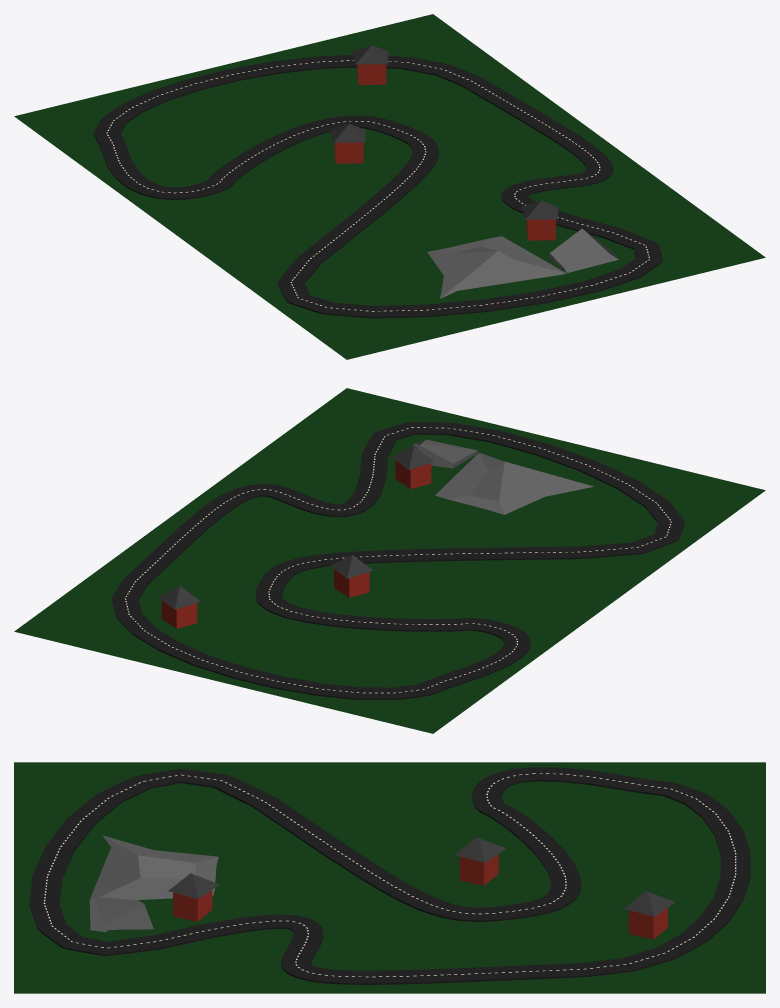
File: world1.0.glb
3 renders of one model, top to bottom at view 1: azimuth 30°, elevation 25°; view 2: azimuth 150°, elevation 25°; view 3: azimuth 270°, elevation 25°, orthographic. The views are drawn at different scales.
Parts seen in each view (by area): view 1: maa, tie, Kallio, tiemerkintä, talo.002, talo, talo.001; view 2: maa, tie, Kallio, tiemerkintä, talo.001, talo.002, talo; view 3: maa, tie, Kallio, talo, talo.001, talo.002, tiemerkintä.
Part boxes in pixels (x1=…): maa: x1=14, y1=14, x2=765, y2=359; tie: x1=93, y1=55, x2=662, y2=318; Kallio: x1=427, y1=228, x2=618, y2=298; tiemerkintä: x1=106, y1=60, x2=649, y2=311; talo.002: x1=352, y1=45, x2=388, y2=85; talo: x1=330, y1=124, x2=365, y2=163; talo.001: x1=522, y1=200, x2=557, y2=240; maa: x1=14, y1=388, x2=765, y2=733; tie: x1=112, y1=422, x2=684, y2=699; Kallio: x1=413, y1=439, x2=593, y2=514; tiemerkintä: x1=125, y1=427, x2=671, y2=693; talo.001: x1=391, y1=445, x2=434, y2=488; talo.002: x1=158, y1=585, x2=200, y2=628; talo: x1=330, y1=554, x2=372, y2=597; maa: x1=14, y1=762, x2=765, y2=993; tie: x1=29, y1=767, x2=750, y2=984; Kallio: x1=89, y1=835, x2=218, y2=931; talo: x1=454, y1=837, x2=505, y2=885; talo.001: x1=168, y1=873, x2=219, y2=921; talo.002: x1=624, y1=891, x2=674, y2=939; tiemerkintä: x1=43, y1=773, x2=736, y2=977.
Size of the model in its own units: 145 by 12.7 by 200.
